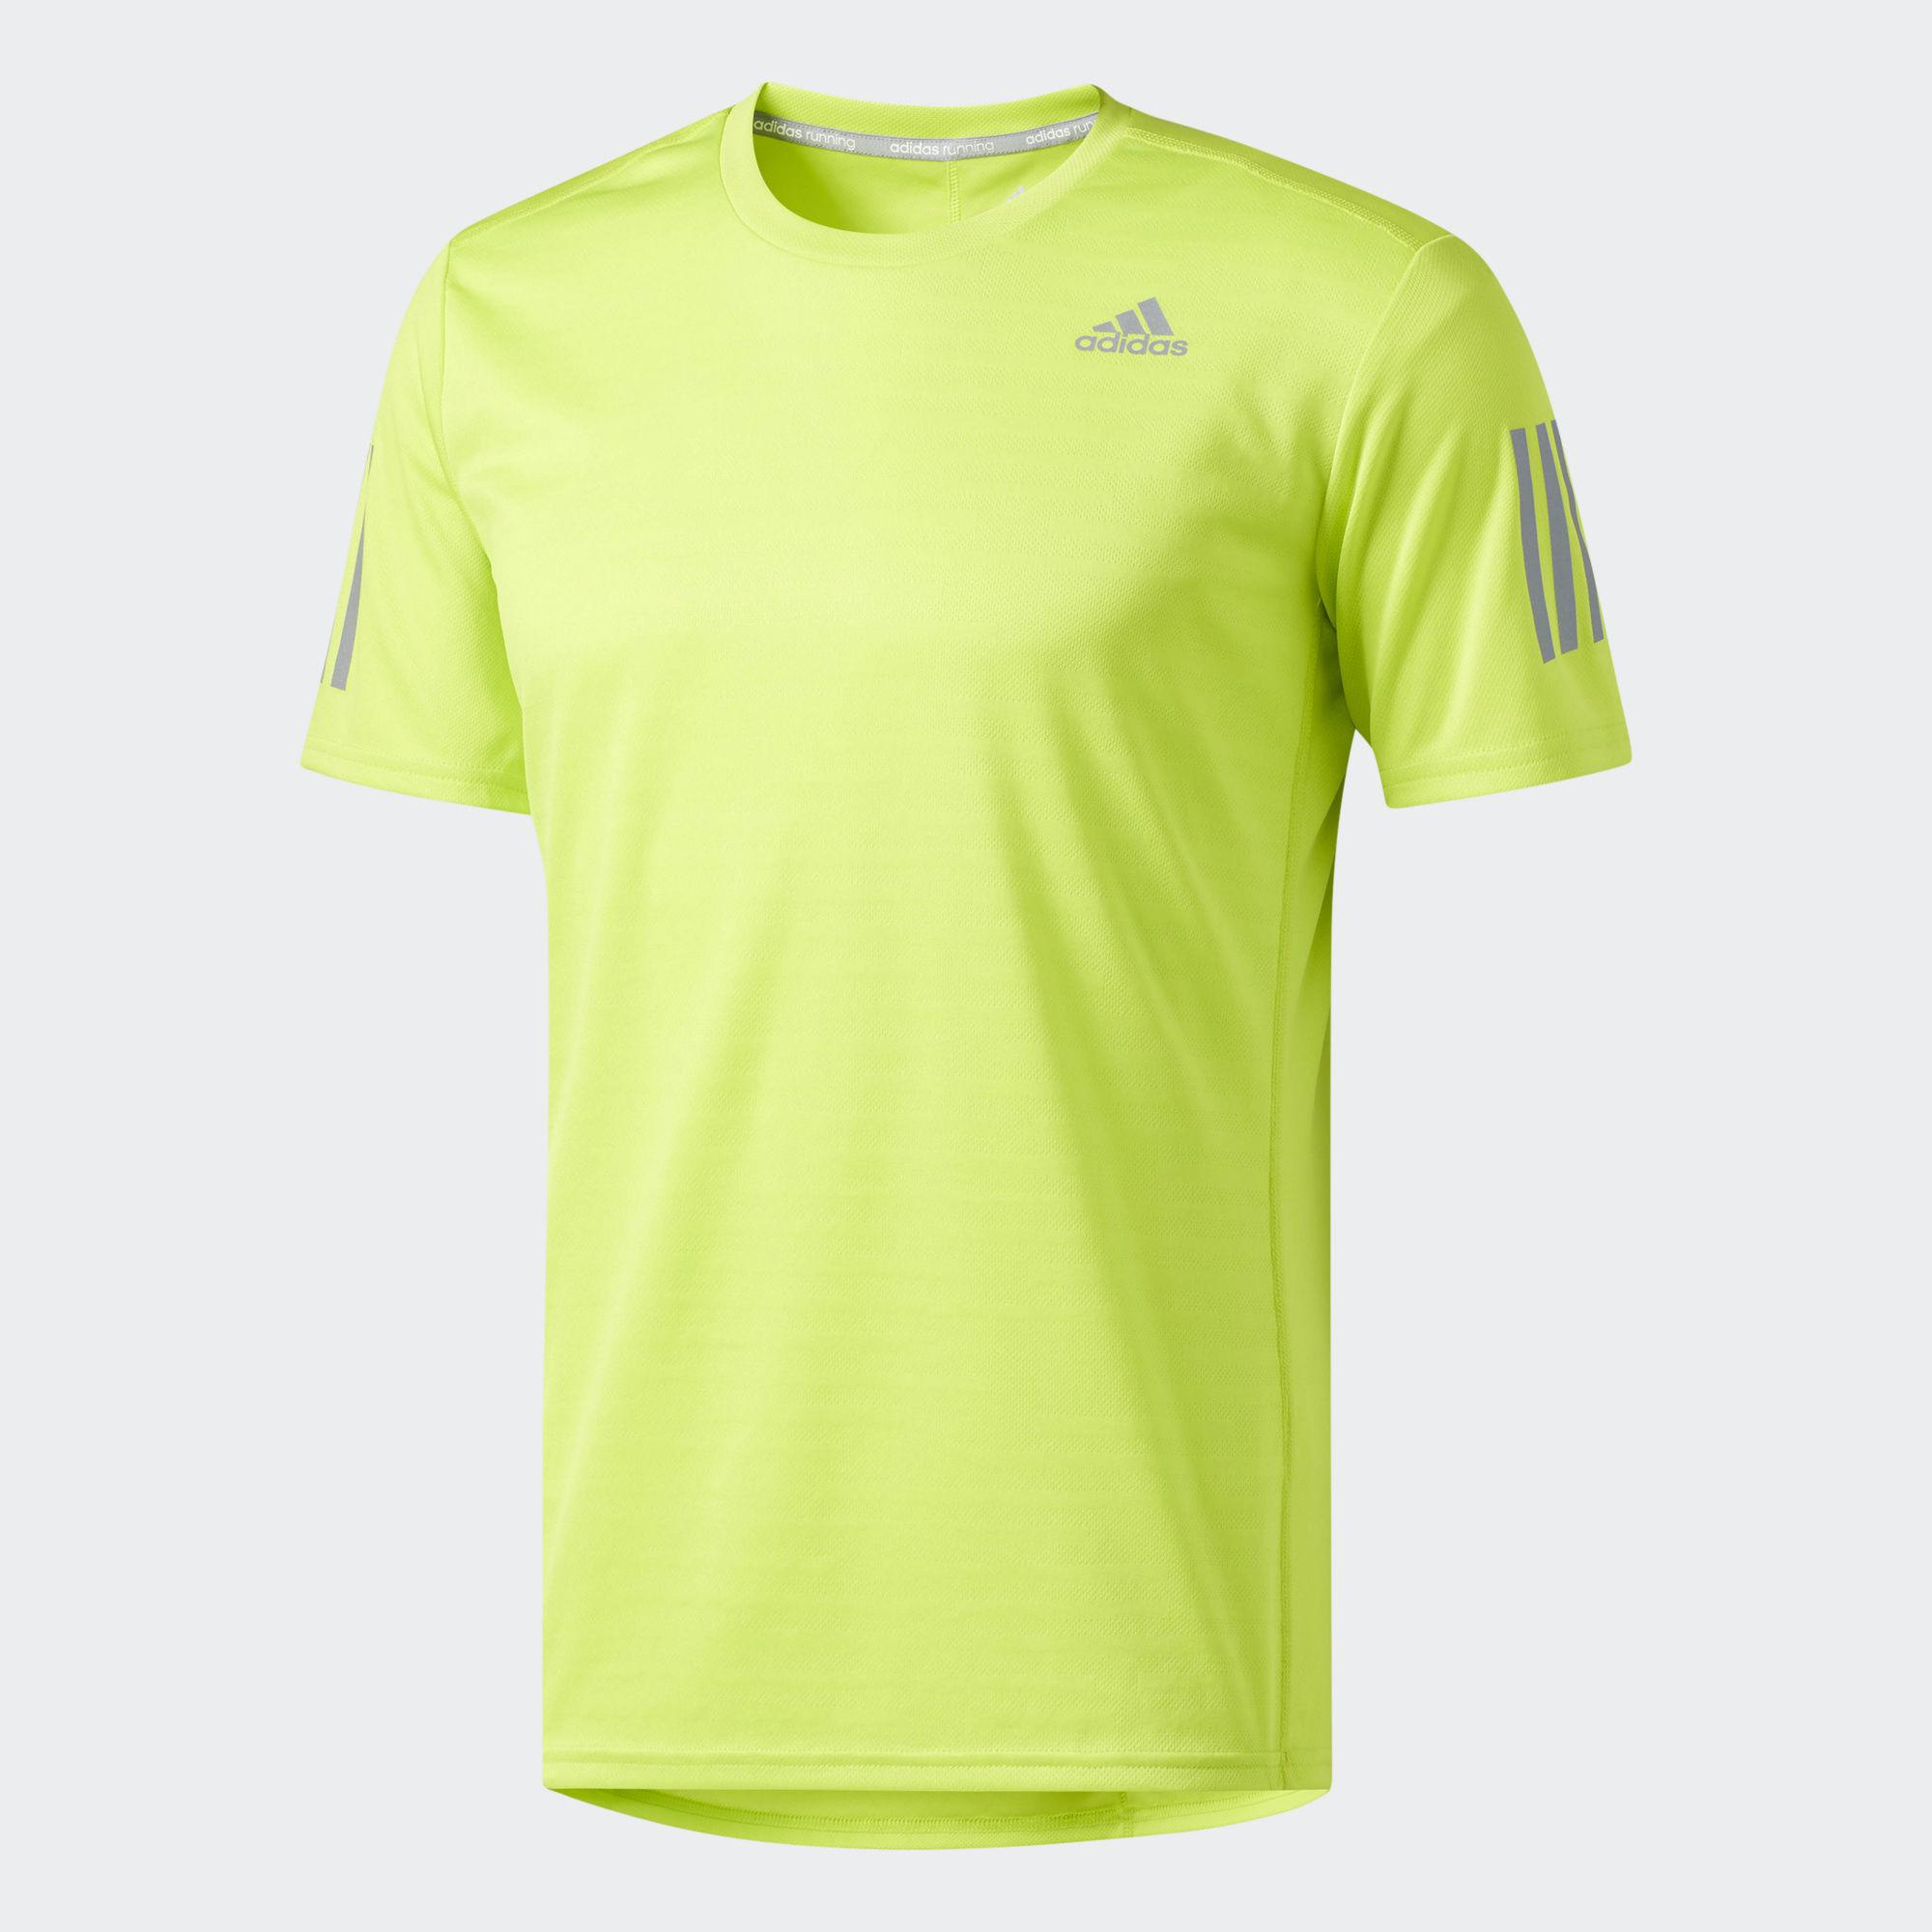teeshirt: (280, 51, 1882, 1932)
